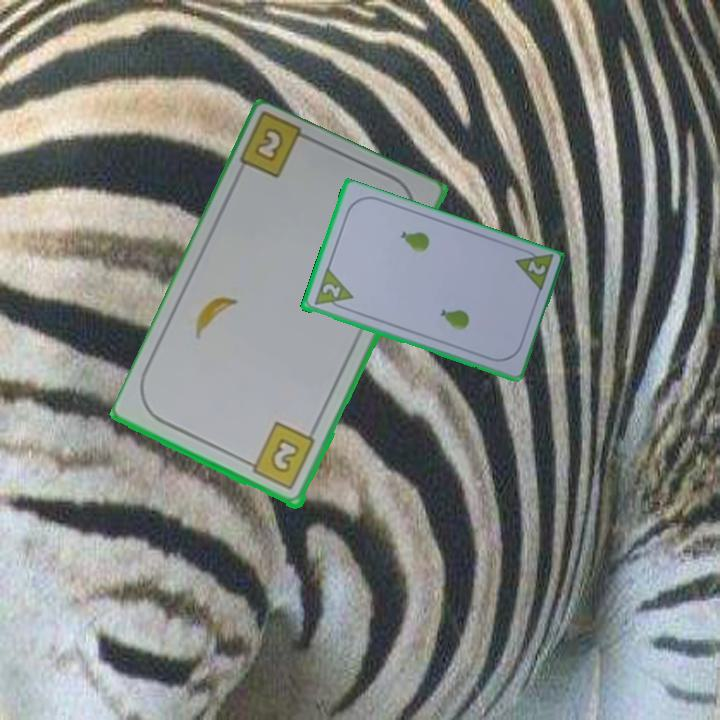2b: (241, 419, 318, 494), (254, 127, 284, 161)
2p: (511, 244, 556, 296), (310, 266, 355, 314)
